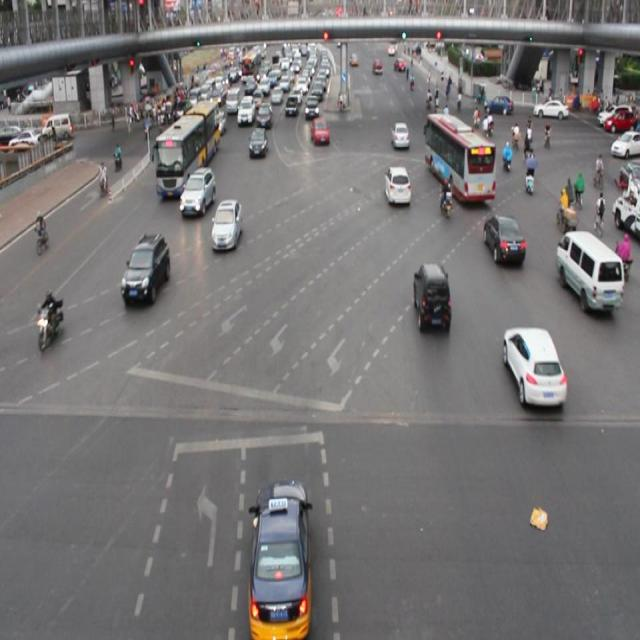car: (248, 477, 314, 640), (503, 327, 565, 407), (121, 232, 170, 307), (412, 260, 451, 335), (483, 213, 523, 264), (180, 167, 214, 217), (211, 198, 242, 252), (383, 165, 412, 208), (248, 127, 268, 161), (310, 115, 329, 147), (390, 121, 409, 150), (256, 101, 273, 130)
truck: (556, 229, 623, 313)
van: (157, 99, 219, 194), (426, 114, 493, 200)
